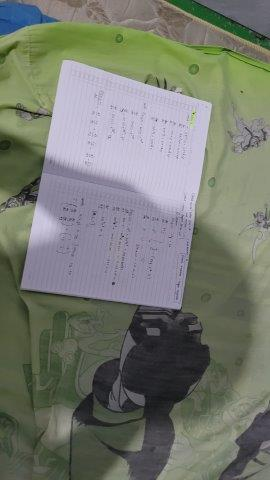kertas: (21, 61, 211, 311)
